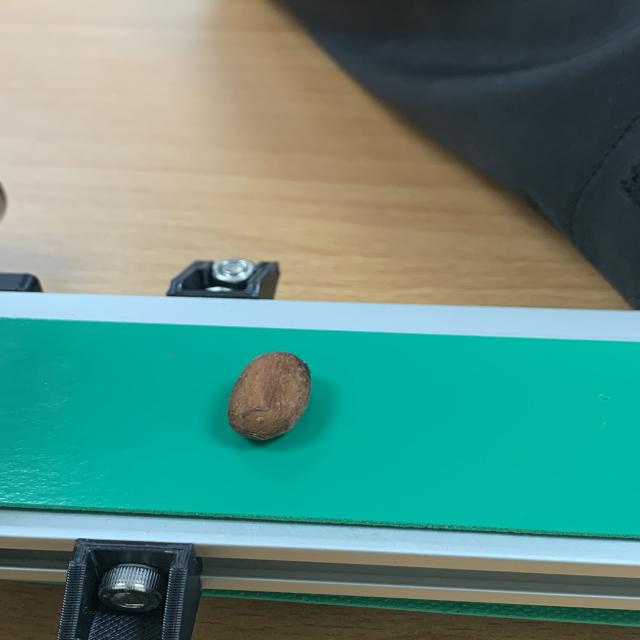Fine_cocoabeans: (143, 331, 410, 482)
